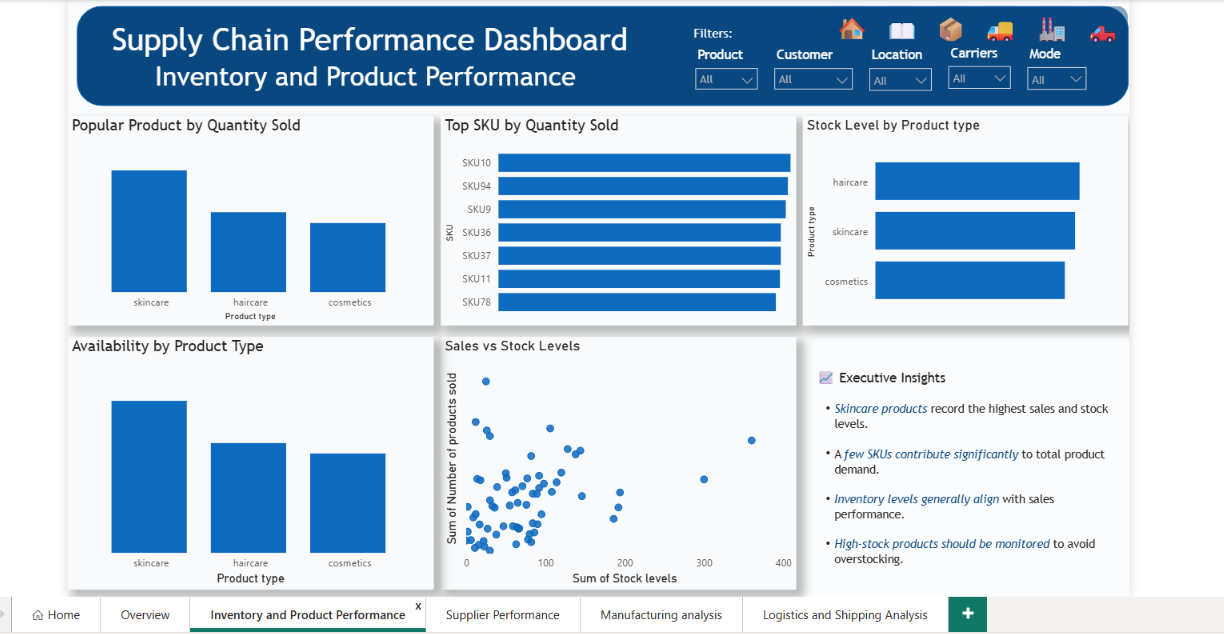

This screenshot's page, from the dashboard's own definition file:
{"tool":"powerbi","page":{"name":"Inventory and Product Performance","canvas":[1280,720],"ordinal":2},"visuals":[{"type":"shape","box":[10.9,7.2,1269.2,120.6],"z":0},{"type":"slicer","fields":{"Values":["Sheet1.Product type"]},"box":[746.8,51.9,95.3,60.3],"z":0,"group":"g1"},{"type":"actionButton","box":[914.5,7.2,62.7,43.4],"z":1000},{"type":"slicer","fields":{"Values":["Sheet1.Customer demographics"]},"box":[842.1,51.9,114.6,62.7],"z":1000,"group":"g1"},{"type":"textbox","box":[48.3,20.5,678,107.4],"z":2000},{"type":"slicer","fields":{"Values":["Sheet1.Transportation modes"]},"box":[1147.3,50.7,91.7,61.5],"z":2000,"group":"g1"},{"type":"actionButton","title":"Overview Page","box":[977.2,7.2,57.9,43.4],"z":3000},{"type":"slicer","fields":{"Values":["Sheet1.Shipping carriers"]},"box":[1052,49.5,95.3,67.6],"z":3000,"group":"g1"},{"type":"textbox","box":[639.4,26.5,278.7,42.2],"z":4000},{"type":"slicer","fields":{"Values":["Sheet1.Location"]},"box":[956.7,51.9,95.3,60.3],"z":4000,"group":"g1"},{"type":"actionButton","title":"Inventory and Product","box":[1035.1,7.2,60.3,47.1],"z":5000},{"type":"columnChart","title":"Popular Product by Quantity Sold","fields":{"Category":["Sheet1.Product type"],"Y":["Sum(Sheet1.Number of products sold)"]},"box":[0,139.9,441.5,252.5],"z":6000},{"type":"actionButton","title":"Supplier Performance","box":[1094.2,7.2,61.5,47.1],"z":7000},{"type":"clusteredBarChart","title":"Top SKU by Quantity Sold","fields":{"Category":["Sheet1.SKU"],"Y":["Sum(Sheet1.Number of products sold)"]},"box":[450.1,139.9,428.5,252.5],"z":8000},{"type":"actionButton","title":"Manufacturing Analysis","box":[1155.8,7.2,63.9,45.8],"z":9000},{"type":"clusteredBarChart","title":"Stock Level by Product type","fields":{"Category":["Sheet1.Product type"],"Y":["Sum(Sheet1.Stock levels)"]},"box":[887.3,139.9,392.4,252.5],"z":10000},{"type":"actionButton","title":"Logistics and Shipping","box":[1219.7,7.2,59.1,50.7],"z":11000},{"type":"scatterChart","title":"Sales vs Stock Levels","fields":{"X":["Sum(Sheet1.Stock levels)"],"Y":["Sum(Sheet1.Number of products sold)"],"Category":["Sheet1.Stock levels"]},"box":[450.1,406.9,428.5,304.4],"z":12000},{"type":"group","id":"g1","title":"Group 1","box":[746.8,49.5,492.2,67.6],"z":13000},{"type":"textbox","box":[898.8,439.1,365.6,258.2],"z":14000},{"type":"columnChart","title":"Availability by Product Type","fields":{"Category":["Sheet1.Product type"],"Y":["Sum(Sheet1.Availability)"]},"box":[0,406.9,441.5,304.4],"z":15000}]}

Visuals, with their boxes on the page's 1280x720 design canvas (x1, y1, x2, y2). These are canvas units, not pixel positions in the 1224x634 screenshot, which may show the page scaled, cropped or inside an application window:
shape: bbox=(11, 7, 1280, 128)
slicer - Sheet1.Product type: bbox=(747, 52, 842, 112)
actionButton: bbox=(914, 7, 977, 51)
slicer - Sheet1.Customer demographics: bbox=(842, 52, 957, 115)
textbox: bbox=(48, 20, 726, 128)
slicer - Sheet1.Transportation modes: bbox=(1147, 51, 1239, 112)
"Overview Page" actionButton: bbox=(977, 7, 1035, 51)
slicer - Sheet1.Shipping carriers: bbox=(1052, 50, 1147, 117)
textbox: bbox=(639, 26, 918, 69)
slicer - Sheet1.Location: bbox=(957, 52, 1052, 112)
"Inventory and Product" actionButton: bbox=(1035, 7, 1095, 54)
"Popular Product by Quantity Sold" columnChart: bbox=(0, 140, 442, 392)
"Supplier Performance" actionButton: bbox=(1094, 7, 1156, 54)
"Top SKU by Quantity Sold" clusteredBarChart: bbox=(450, 140, 879, 392)
"Manufacturing Analysis" actionButton: bbox=(1156, 7, 1220, 53)
"Stock Level by Product type" clusteredBarChart: bbox=(887, 140, 1280, 392)
"Logistics and Shipping" actionButton: bbox=(1220, 7, 1279, 58)
"Sales vs Stock Levels" scatterChart: bbox=(450, 407, 879, 711)
"Group 1" group: bbox=(747, 50, 1239, 117)
textbox: bbox=(899, 439, 1264, 697)
"Availability by Product Type" columnChart: bbox=(0, 407, 442, 711)
